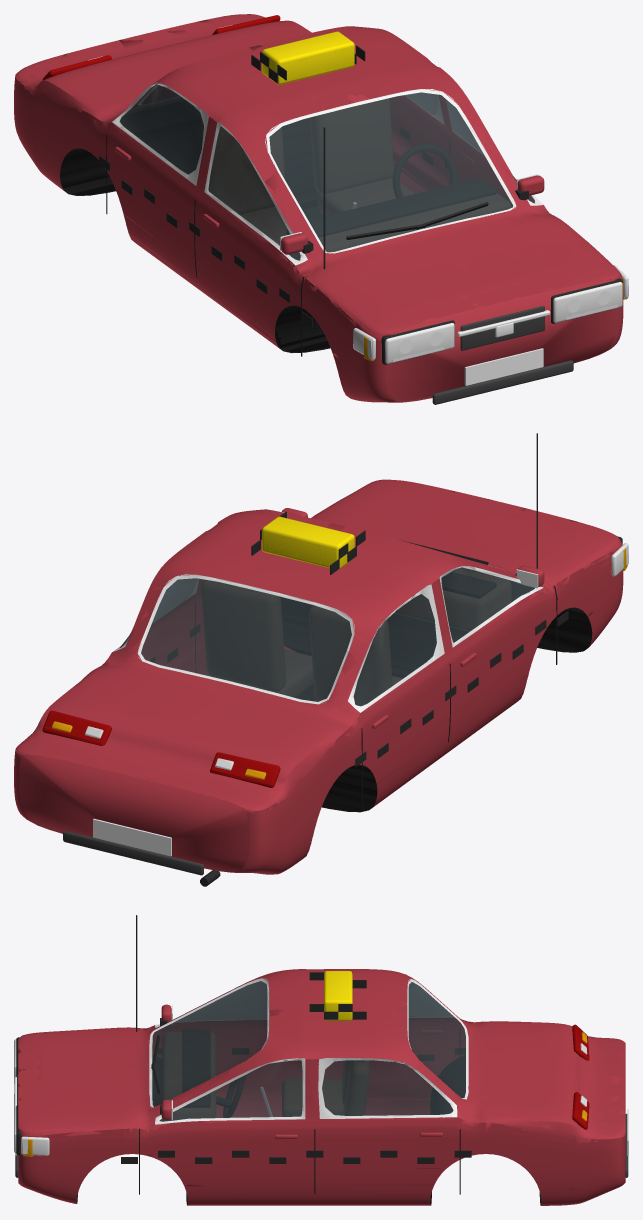
File: taxi.glb
The picture shows the model from 3 angles, top to bottom: view 1: azimuth 30°, elevation 25°; view 2: azimuth 150°, elevation 25°; view 3: azimuth 270°, elevation 25°; orthographic projection. The views are drawn at different scales.
Visible parts, largest first — view 1: LOD_hi, LOD0; view 2: LOD_hi, LOD0; view 3: LOD_hi, LOD0.
Boxes of the visible parts, x1,y1,x2,y2 form: LOD_hi: (14, 14, 628, 404); LOD0: (17, 16, 628, 401); LOD_hi: (14, 433, 628, 886); LOD0: (15, 434, 628, 886); LOD_hi: (14, 915, 628, 1205); LOD0: (15, 915, 625, 1204).
Size of what is drawn, in the model's own units: 1.76 by 1.61 by 4.31.
